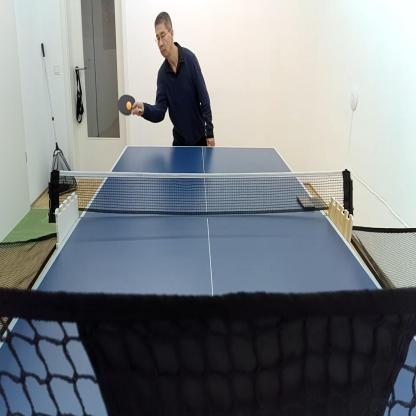Ball: (127, 100, 132, 110)
